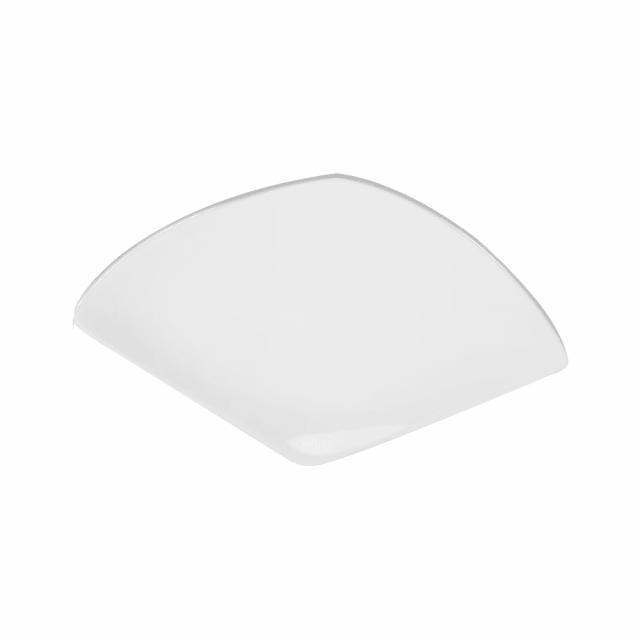plate: (74, 171, 570, 469)
